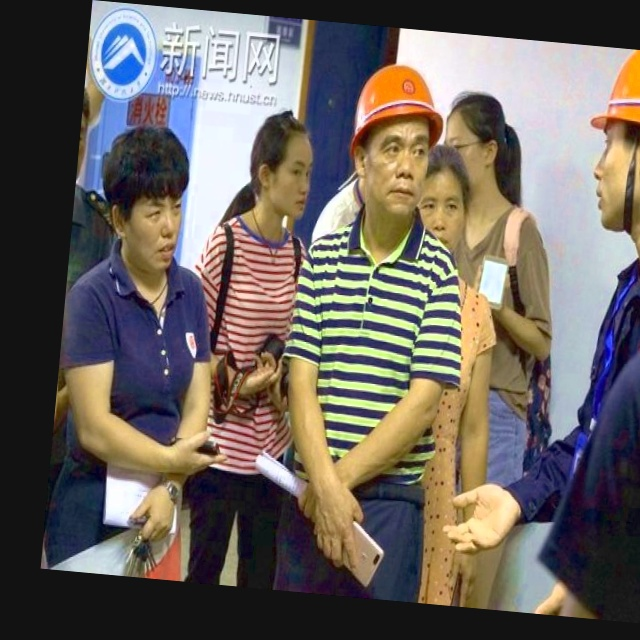Con_Casco: (347, 64, 441, 215)
Sin_Casco_Mascarrilla: (93, 128, 194, 264), (244, 104, 328, 217)
Sin_Chaleco: (287, 226, 461, 475)
